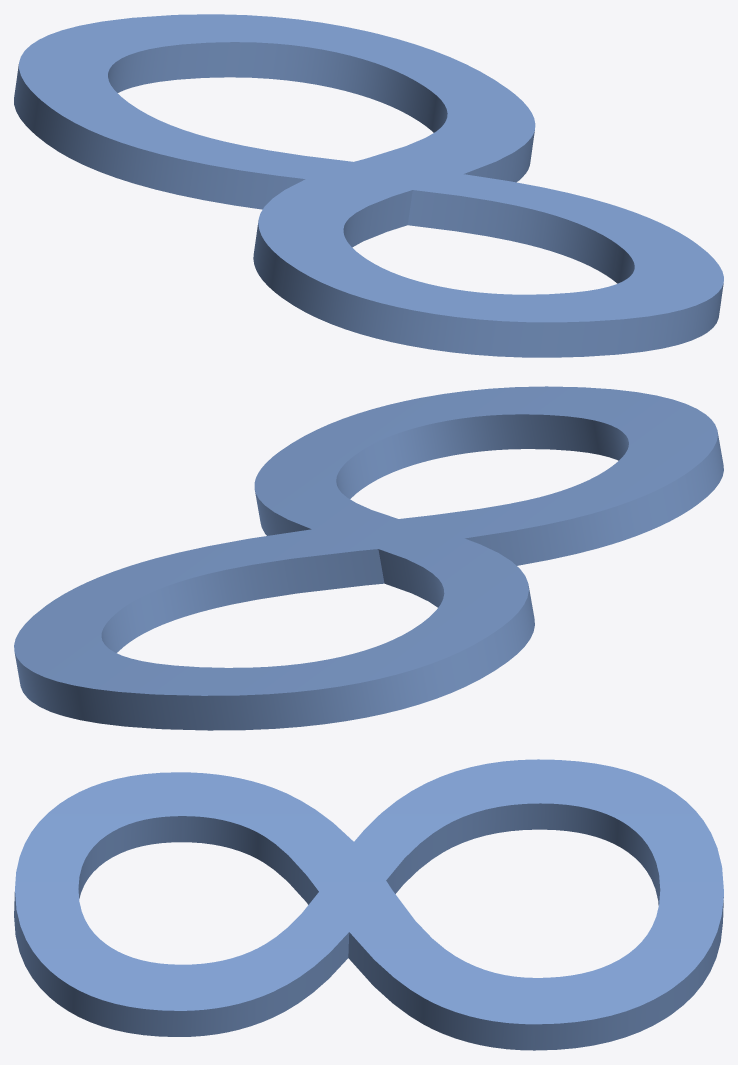
Rendered from New_Number_8.gltf.
3 views of the same model, one above another, from view 1: azimuth 30°, elevation 25°; view 2: azimuth 150°, elevation 25°; view 3: azimuth 270°, elevation 25° (orthographic). The views are drawn at different scales.
Visible parts, largest first — view 1: Part 332; view 2: Part 332; view 3: Part 332.
Boxes of the visible parts, x1,y1,x2,y2 form: Part 332: (14, 14, 723, 357); Part 332: (14, 386, 723, 730); Part 332: (14, 759, 723, 1050).
Size of the model in its own units: 0.0036 by 0.000926 by 0.00566.
